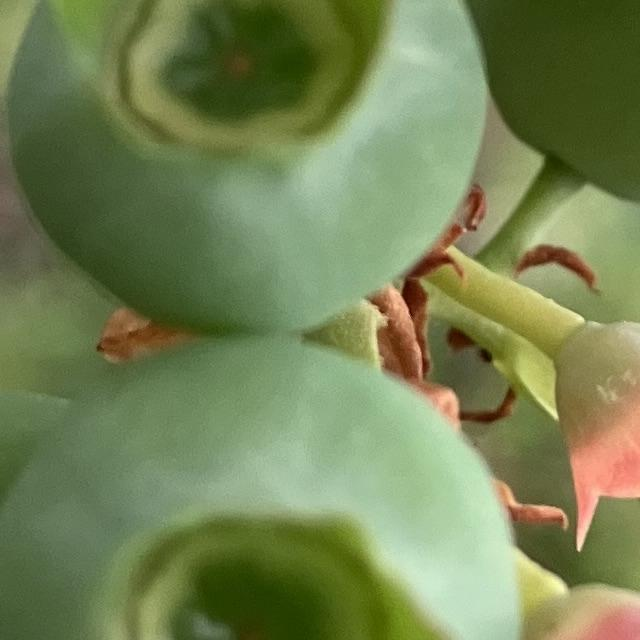Blueberries: (0, 0, 489, 334), (0, 332, 524, 640)
